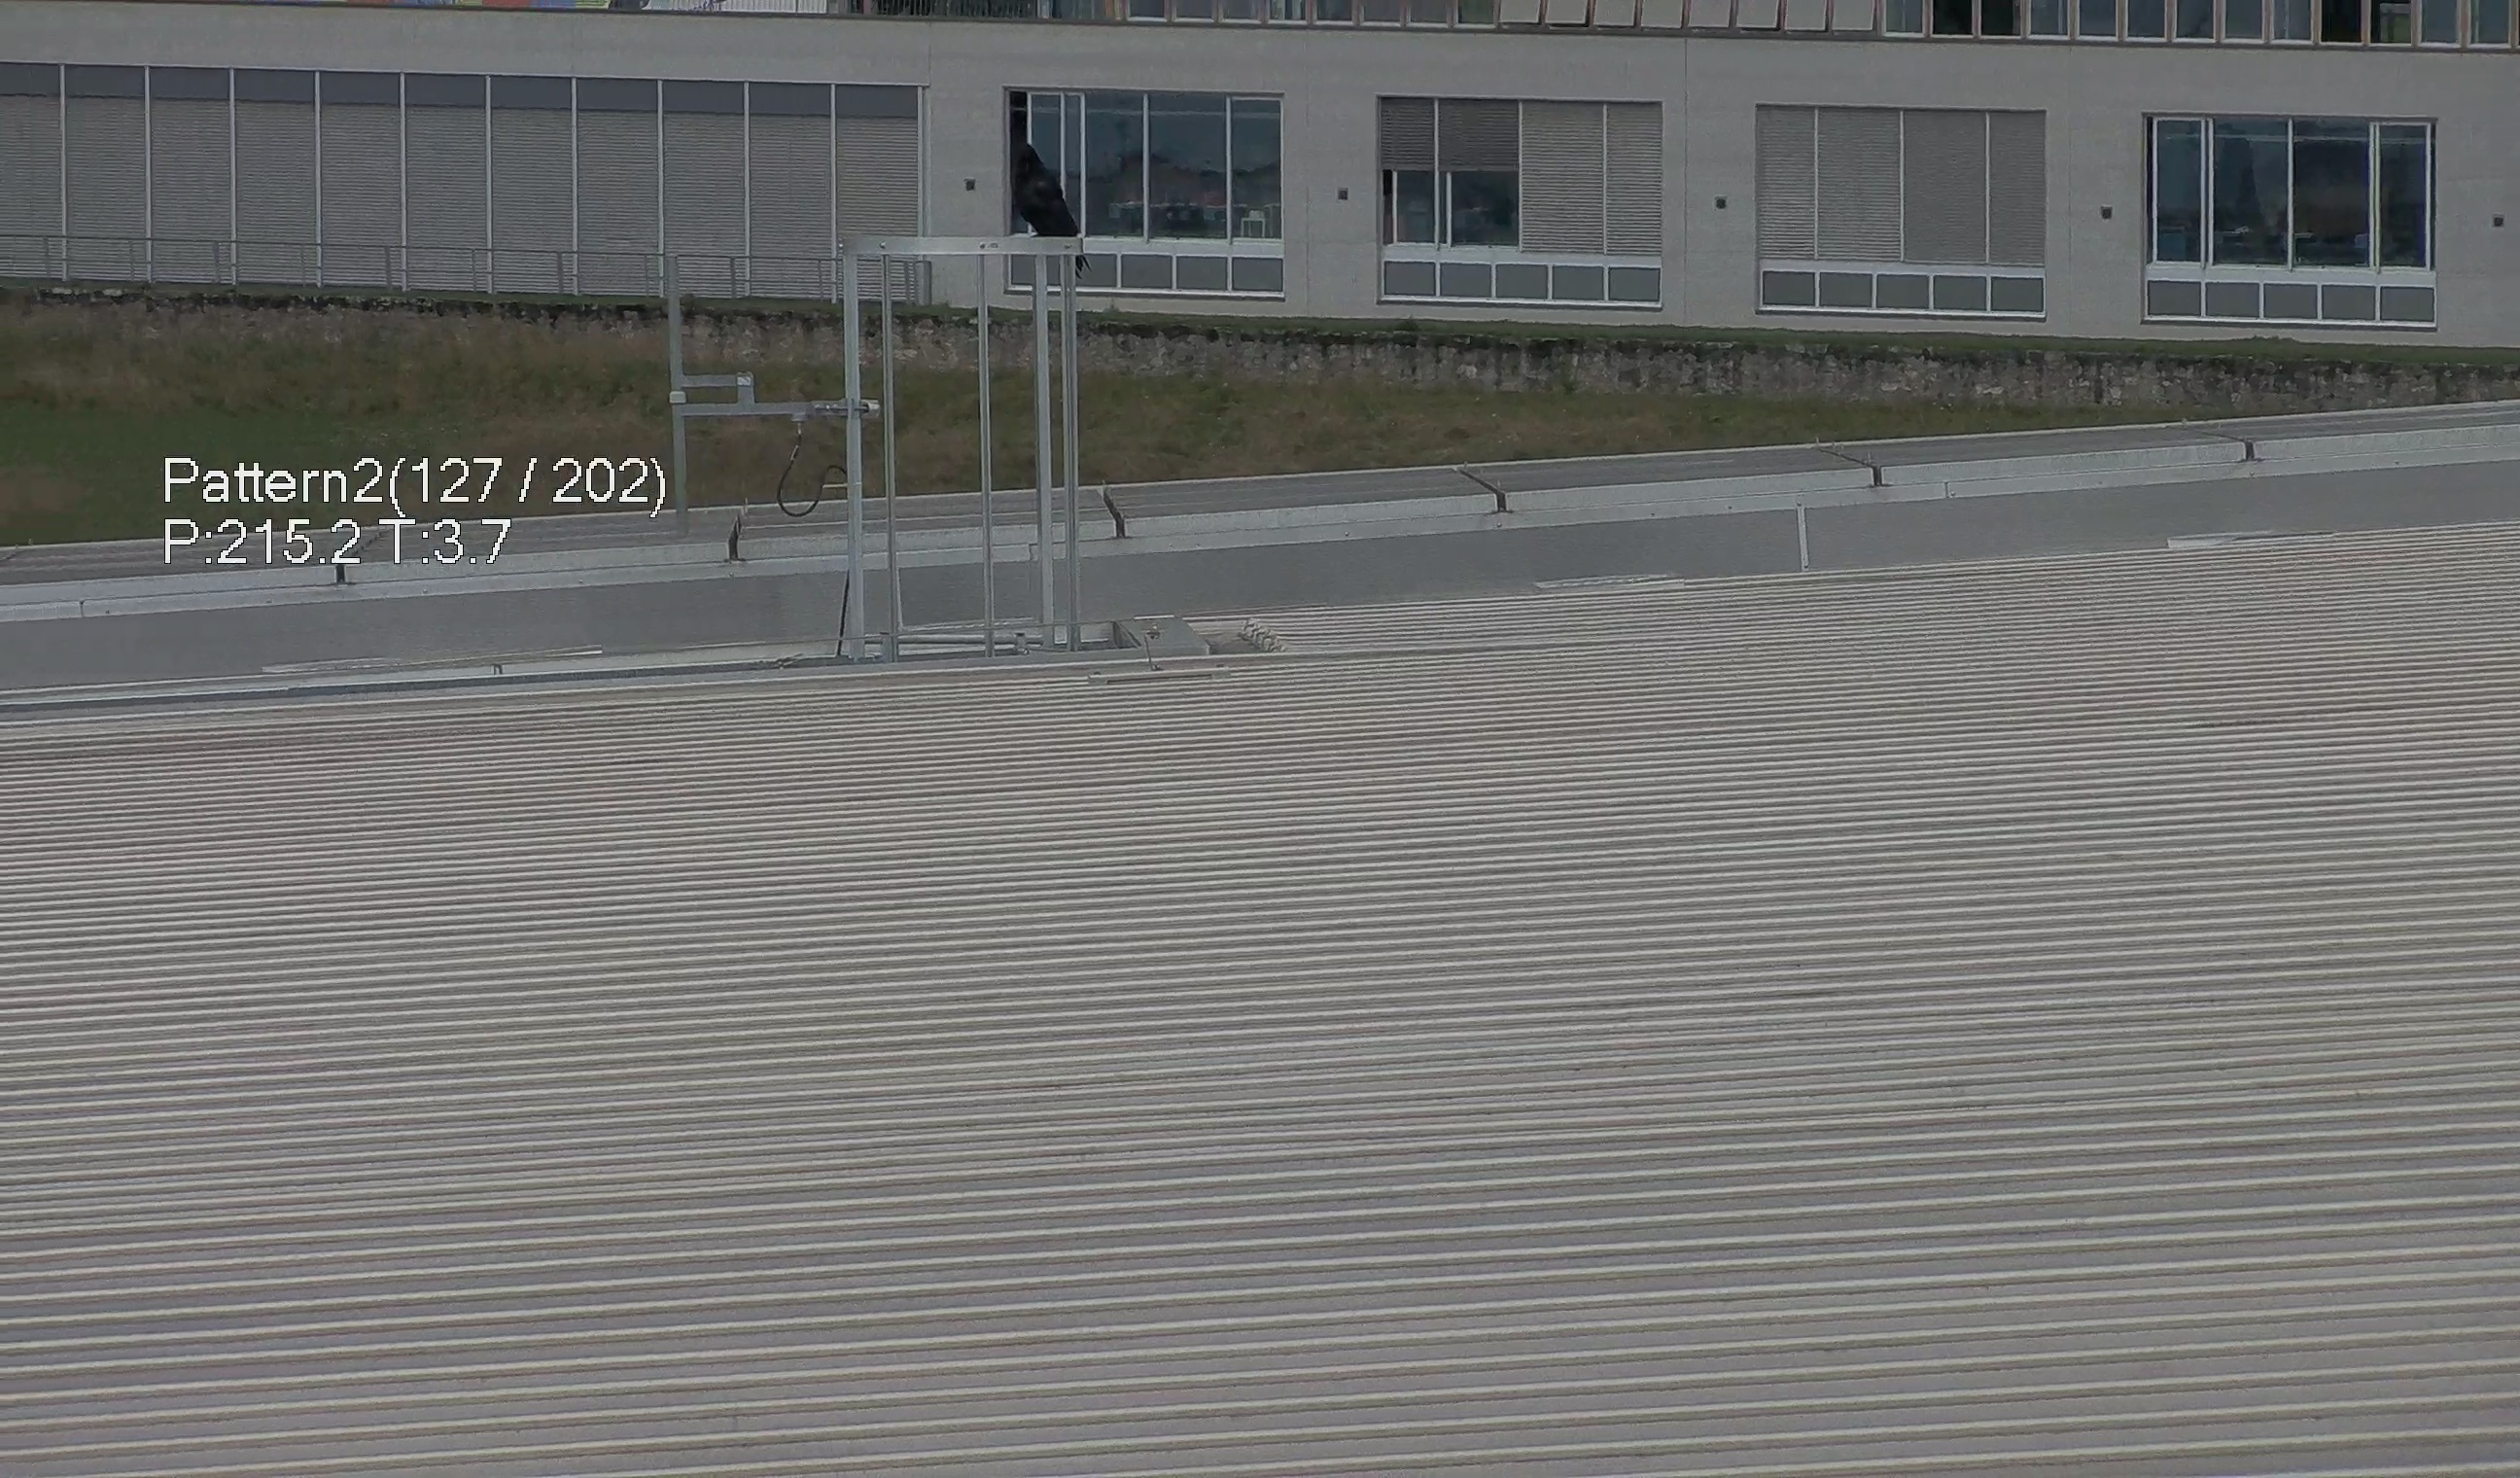Pigeon: (997, 135, 1089, 236)
